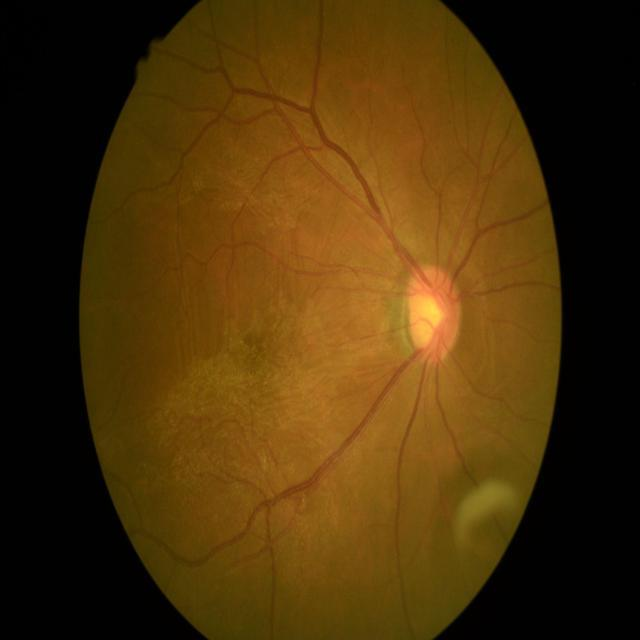cup: (421, 290, 446, 350)
disk: (404, 265, 462, 363)
